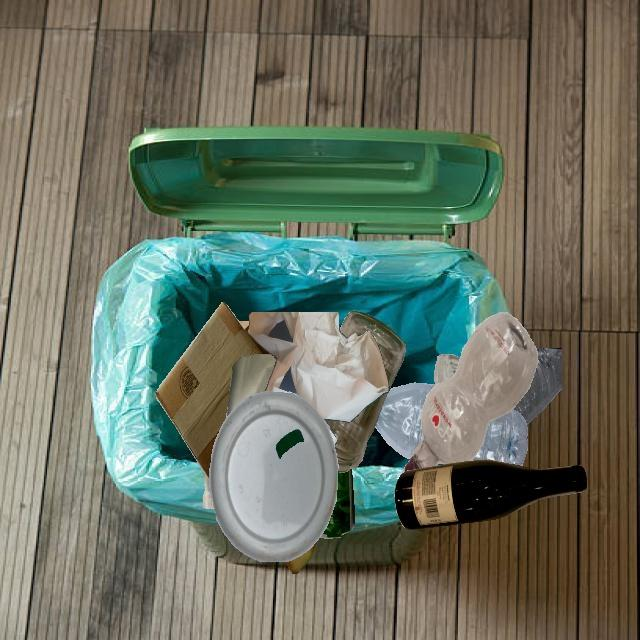biowaste: (285, 538, 319, 573), (238, 321, 249, 328)
cardboard: (155, 301, 272, 479), (320, 468, 355, 538)
glass: (395, 459, 587, 529), (340, 311, 406, 390), (326, 391, 389, 473), (434, 354, 460, 386)
paper: (248, 312, 389, 446), (227, 355, 276, 418)
plastic: (209, 391, 338, 562), (404, 312, 538, 473), (421, 404, 487, 466), (513, 348, 562, 425), (375, 391, 421, 459), (487, 409, 528, 443), (469, 443, 528, 466), (389, 382, 435, 404), (275, 429, 304, 458)
